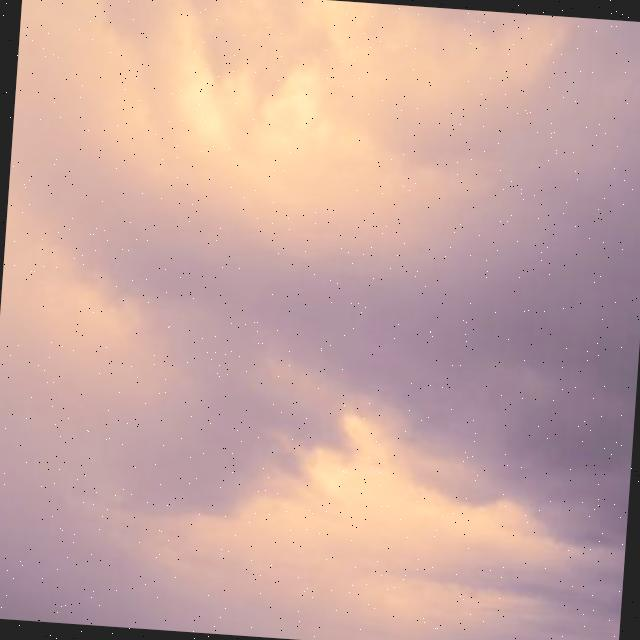As: (1, 35, 640, 624)
